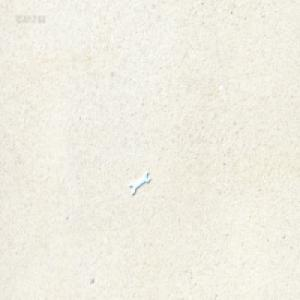Wrench: (129, 170, 151, 196)
